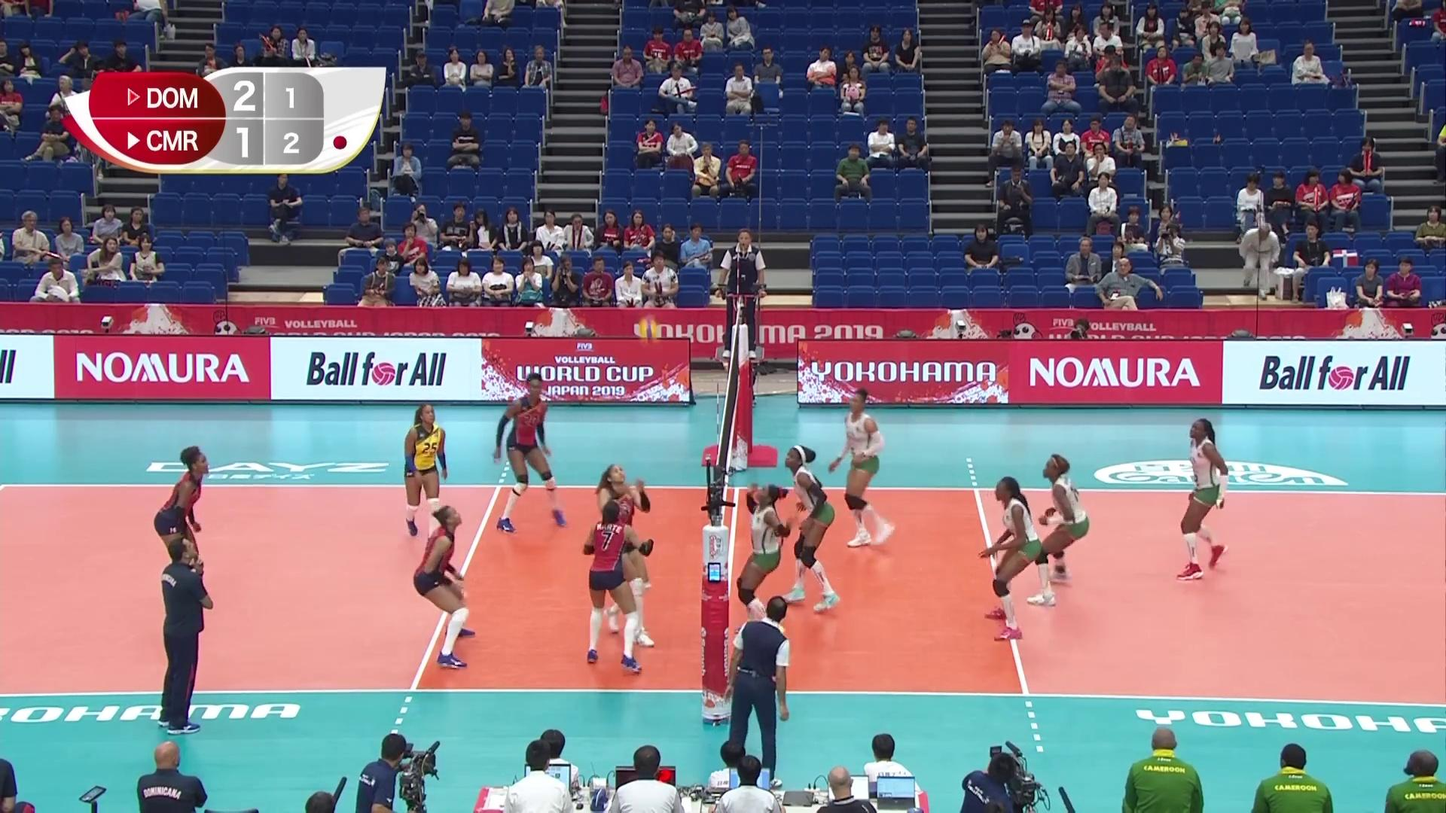player: (595, 465, 656, 647), (979, 473, 1040, 643), (497, 379, 566, 529), (1026, 455, 1092, 609), (829, 392, 894, 546), (413, 508, 476, 665), (584, 503, 643, 668), (783, 446, 840, 614), (150, 449, 213, 593), (1176, 417, 1232, 578), (741, 482, 790, 641), (400, 405, 447, 535)
refree: (728, 597, 791, 779), (720, 230, 765, 361)
